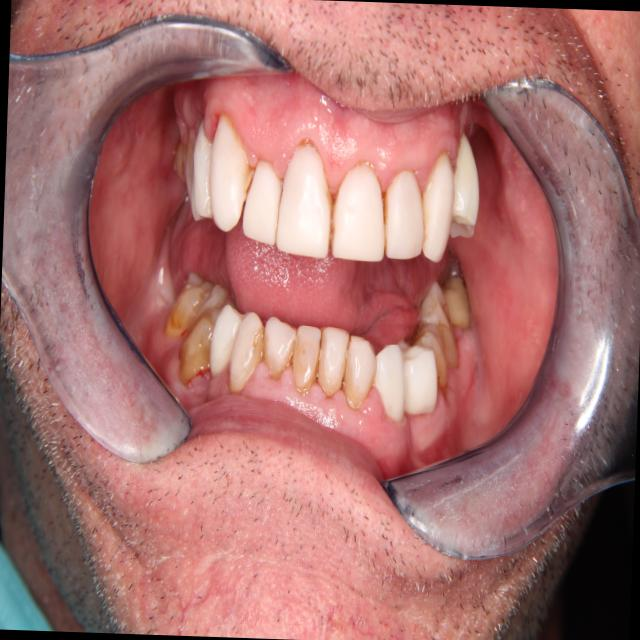tooth: (274, 130, 339, 268), (323, 155, 391, 265), (204, 105, 256, 236), (414, 137, 461, 268), (175, 294, 231, 393), (380, 158, 429, 263), (159, 266, 224, 344), (413, 278, 463, 374), (240, 152, 286, 255), (390, 333, 441, 424), (204, 294, 251, 384), (188, 112, 224, 226), (337, 323, 381, 415), (227, 303, 269, 397), (369, 335, 410, 430), (446, 126, 483, 229), (311, 316, 353, 402), (259, 305, 301, 389), (410, 317, 452, 394), (290, 313, 325, 401), (434, 266, 476, 335), (187, 155, 207, 224), (166, 131, 189, 185), (447, 213, 477, 243), (182, 135, 195, 188)
